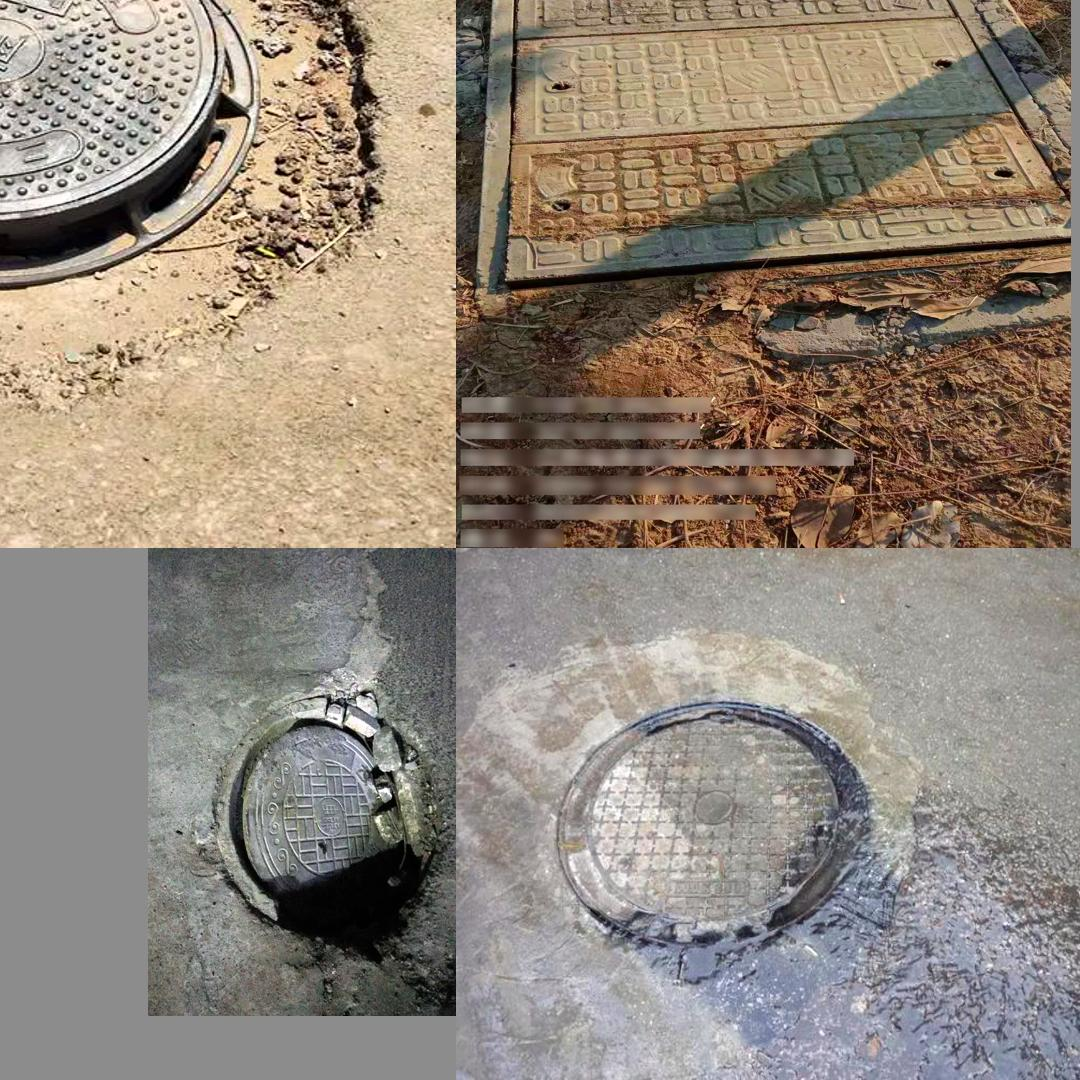circle: (464, 0, 1071, 303), (0, 0, 373, 396), (531, 660, 915, 1009), (205, 694, 446, 945)
